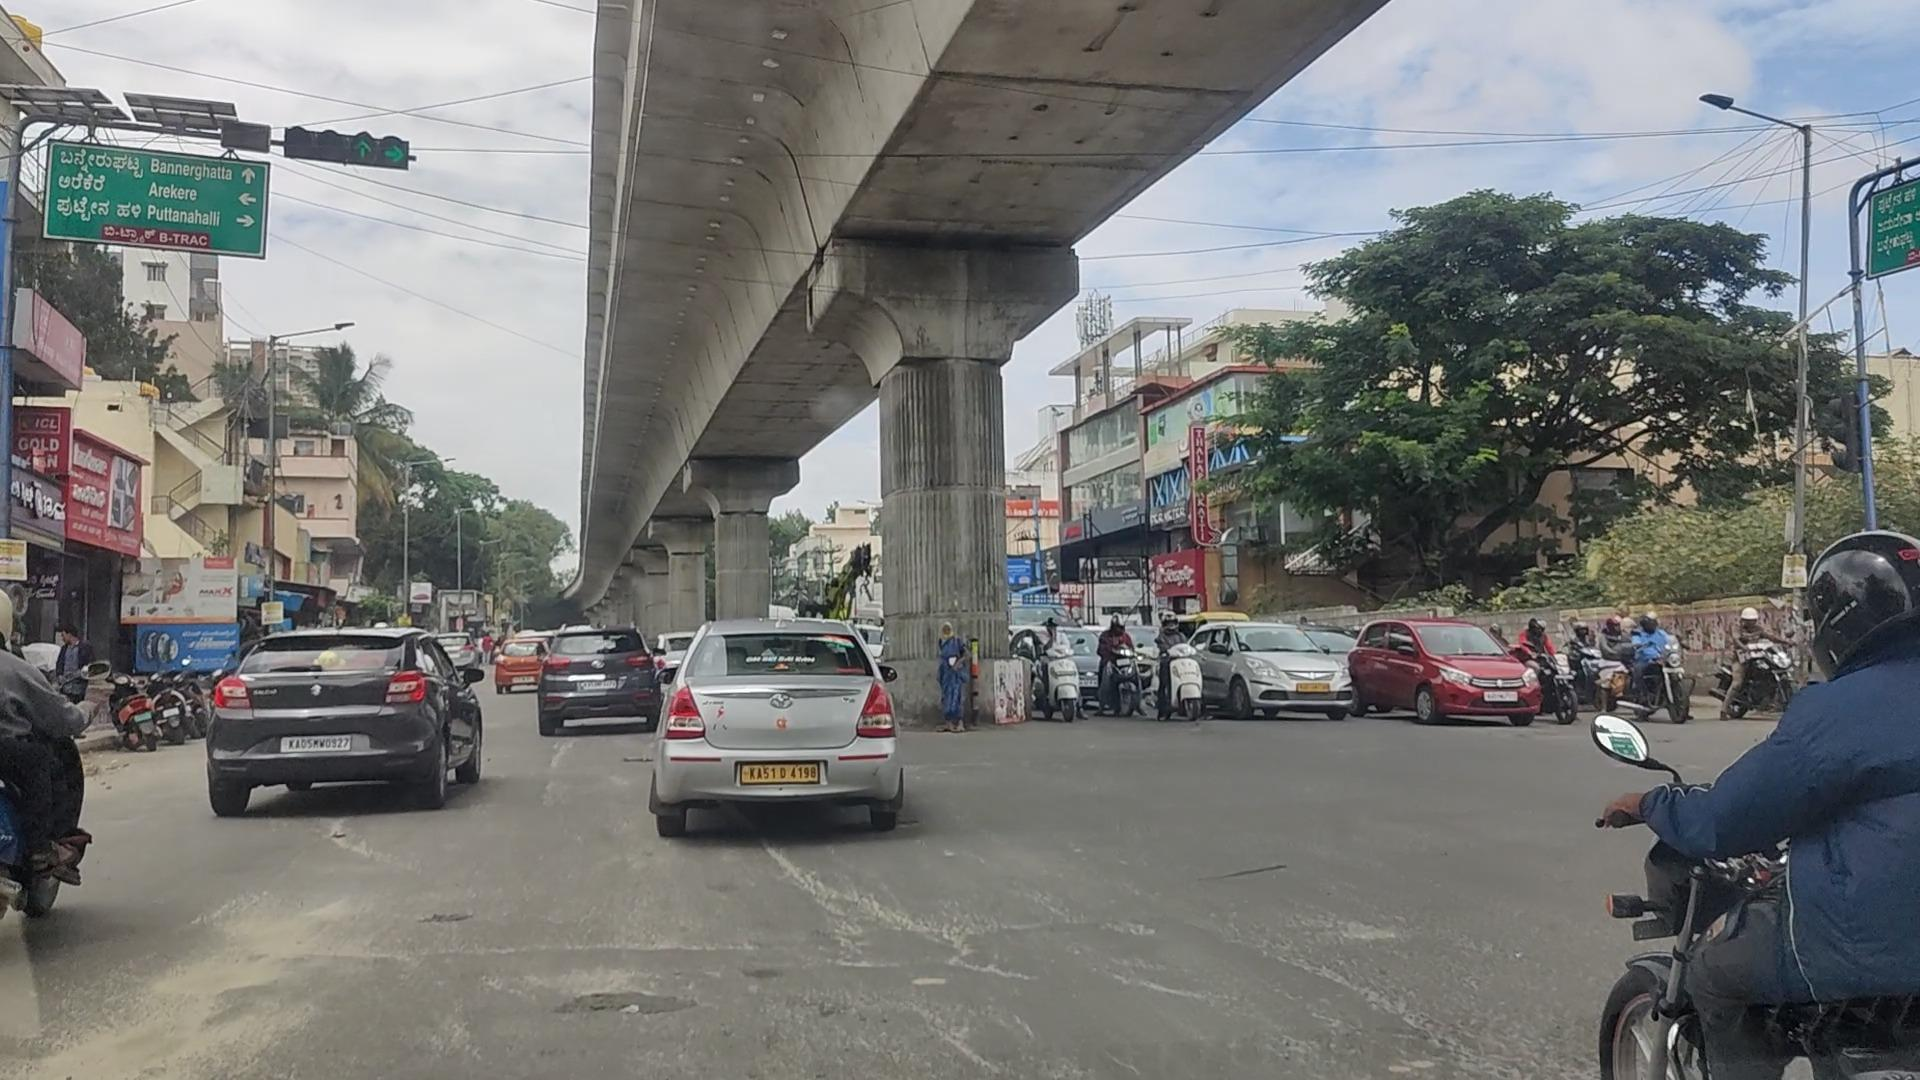LMV: (653, 617, 915, 847), (216, 617, 493, 814)
RoadDamages: (769, 848, 968, 961), (427, 920, 746, 975)
